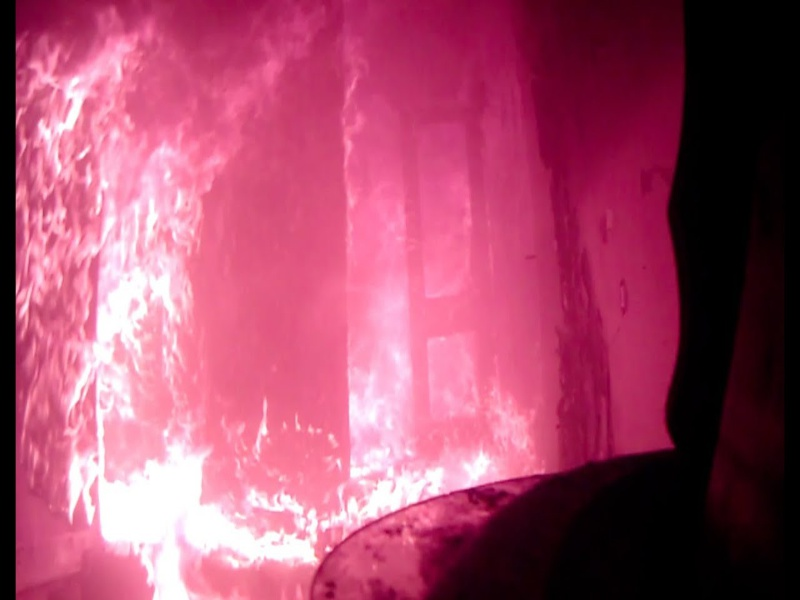fire: (14, 126, 193, 442), (88, 456, 218, 565), (335, 446, 456, 528), (221, 484, 326, 565)
